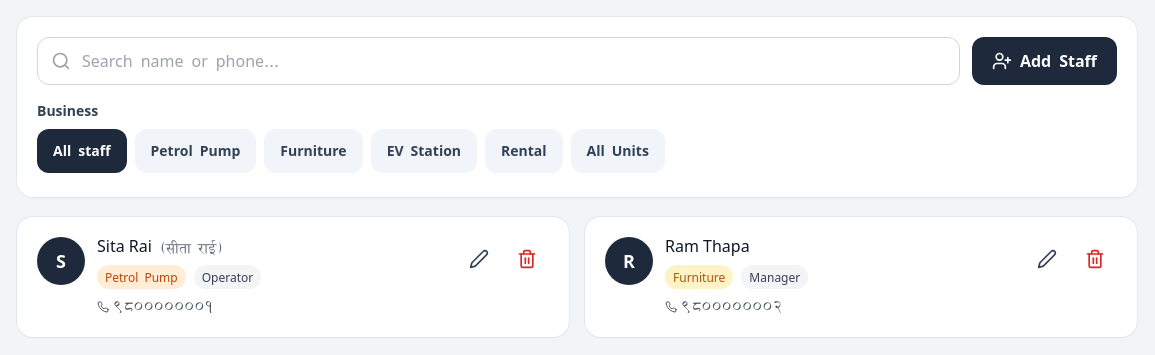
Test: StaffManagementPage › searches by name
The width and height of the screenshot is (1155, 355).
Expected: the heading "Sita Rai" is shown, [97,237,152,261]
Type "ram" into the field labelled "Search name or phone..." at (498, 61), box [37,37,960,85]
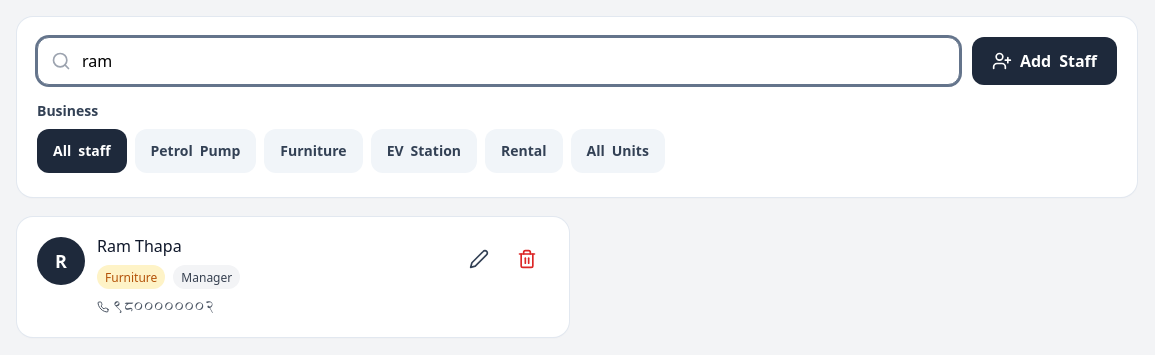
Expected: the heading "Ram Thapa" is shown, [97,237,182,261]
Result: the heading "Sita Rai" is gone
